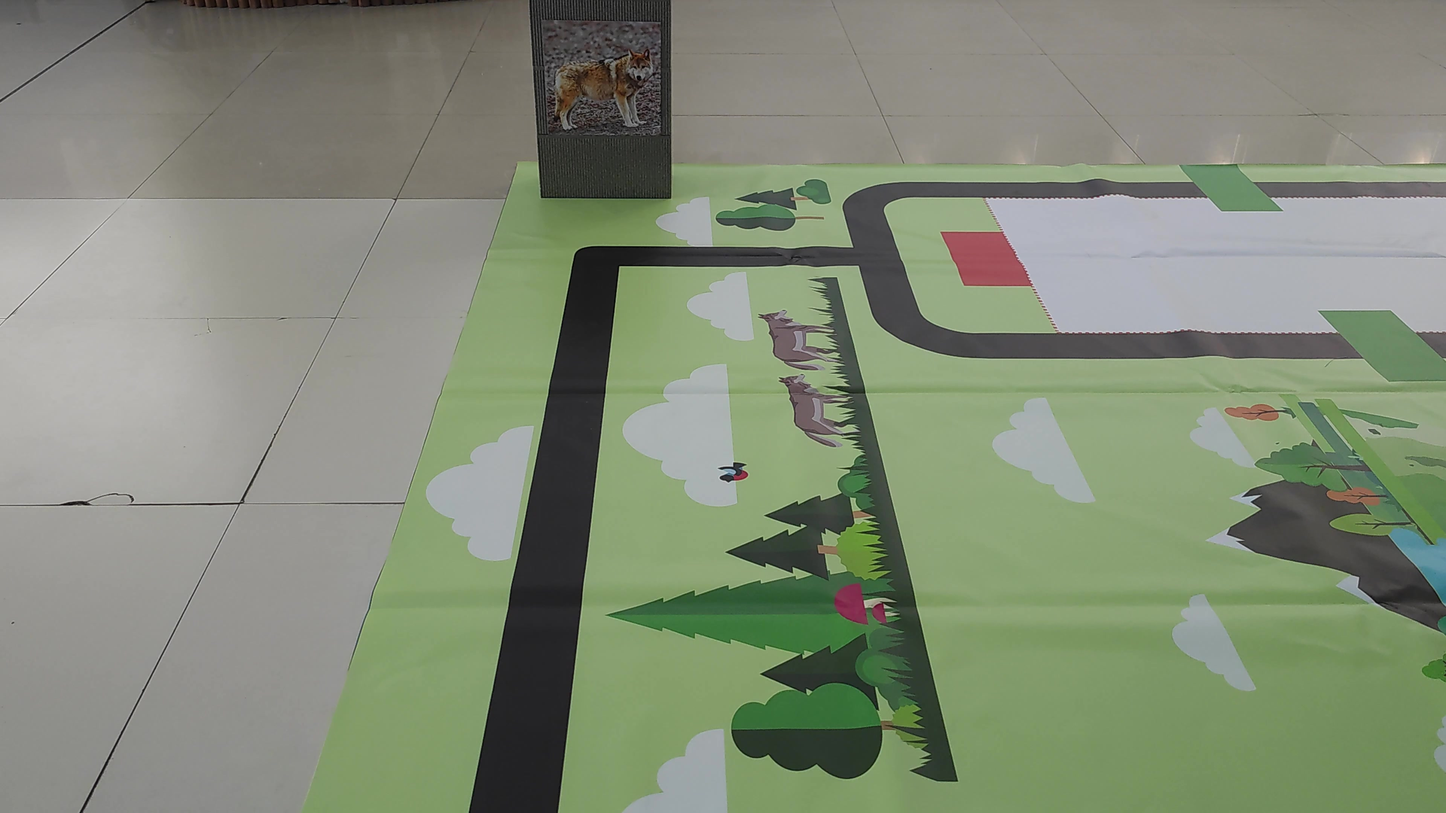wolf: (533, 23, 668, 145)
